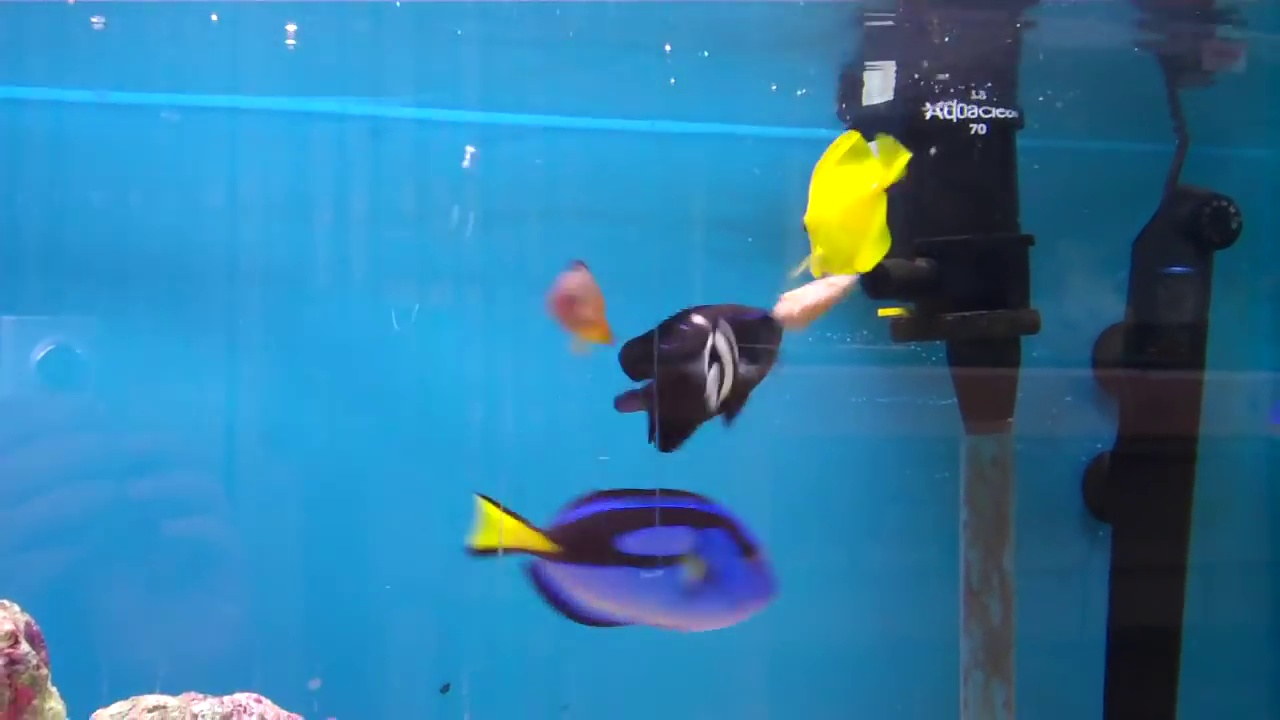blue tang surgeonfish: (470, 431, 789, 622)
saddle butterfly fish: (794, 117, 907, 280)
